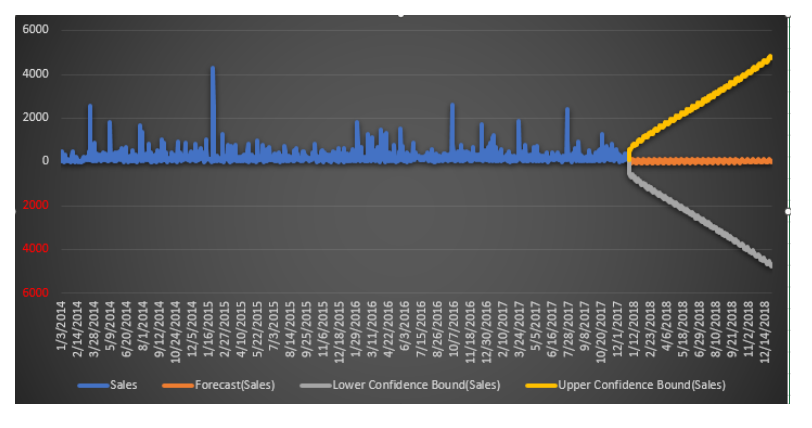

This screenshot's page, from the dashboard's own definition file:
{"tool":"powerbi","page":{"name":"Forecasting visuals for revenue","canvas":[1280,720],"ordinal":5},"visuals":[{"type":"lineChart","title":"Revenue Forecast Analysis","fields":{"Y":["Sum(Sheet3.Sales)"],"Category":["LocalDateTable_9a16231f-129f-4b71-9acf-3b09ac2f7150.Date"]},"box":[160,151.4,990,414.3],"z":0}]}

Visuals, with their boxes on the page's 1280x720 design canvas (x1, y1, x2, y2). These are canvas units, not pixel positions in the 812x428 screenshot, which may show the page scaled, cropped or inside an application window:
"Revenue Forecast Analysis" lineChart: [x1=160, y1=151, x2=1150, y2=566]
